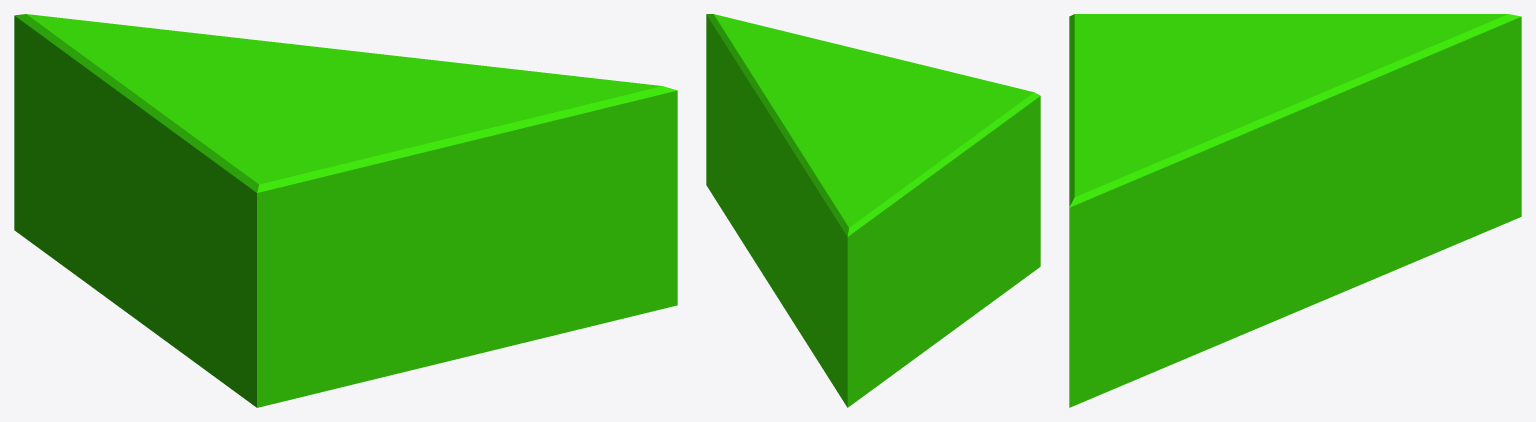
Rendered from triangle_4x2.fbx.
3 views of the same model, side by side, from view 1: azimuth 30°, elevation 25°; view 2: azimuth 150°, elevation 25°; view 3: azimuth 270°, elevation 25° (orthographic). The views are drawn at different scales.
Parts seen in each view (by area): view 1: triangle_4x2; view 2: triangle_4x2; view 3: triangle_4x2.
Part boxes in pixels (x1=…): triangle_4x2: x1=14, y1=14, x2=677, y2=407; triangle_4x2: x1=706, y1=14, x2=1040, y2=407; triangle_4x2: x1=1069, y1=14, x2=1521, y2=407.
Size of the model in its own units: 420 by 210 by 420.
